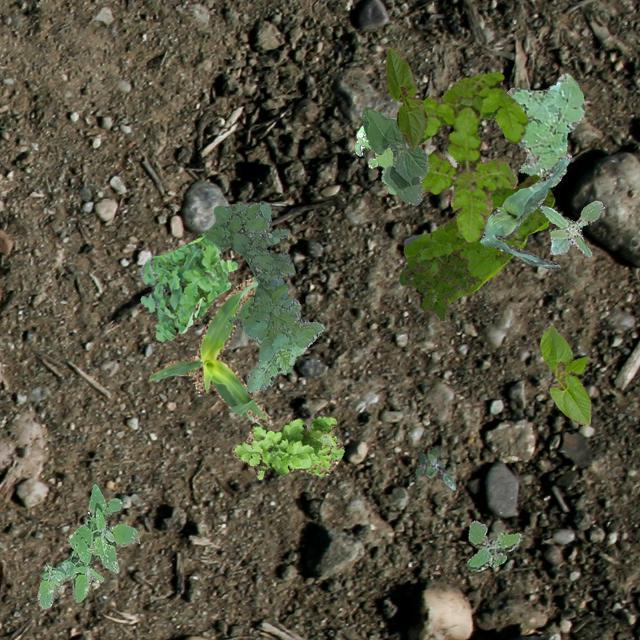crop: (148, 276, 272, 424), (480, 153, 570, 270), (361, 105, 428, 204), (540, 324, 590, 424), (384, 46, 426, 150)
weed: (204, 200, 324, 390), (402, 174, 554, 304), (417, 70, 528, 242), (36, 482, 138, 608), (140, 230, 236, 342), (506, 72, 584, 188), (230, 416, 344, 478), (398, 252, 470, 320), (538, 200, 602, 256), (354, 124, 396, 192), (466, 520, 520, 570), (414, 446, 454, 488)
